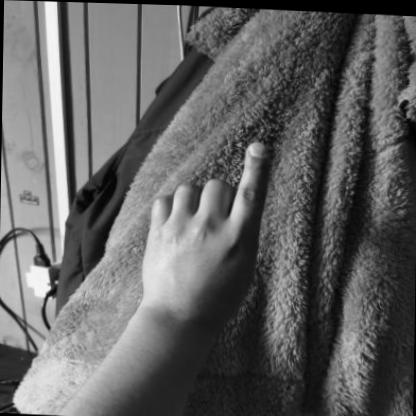T: (128, 126, 292, 337)
